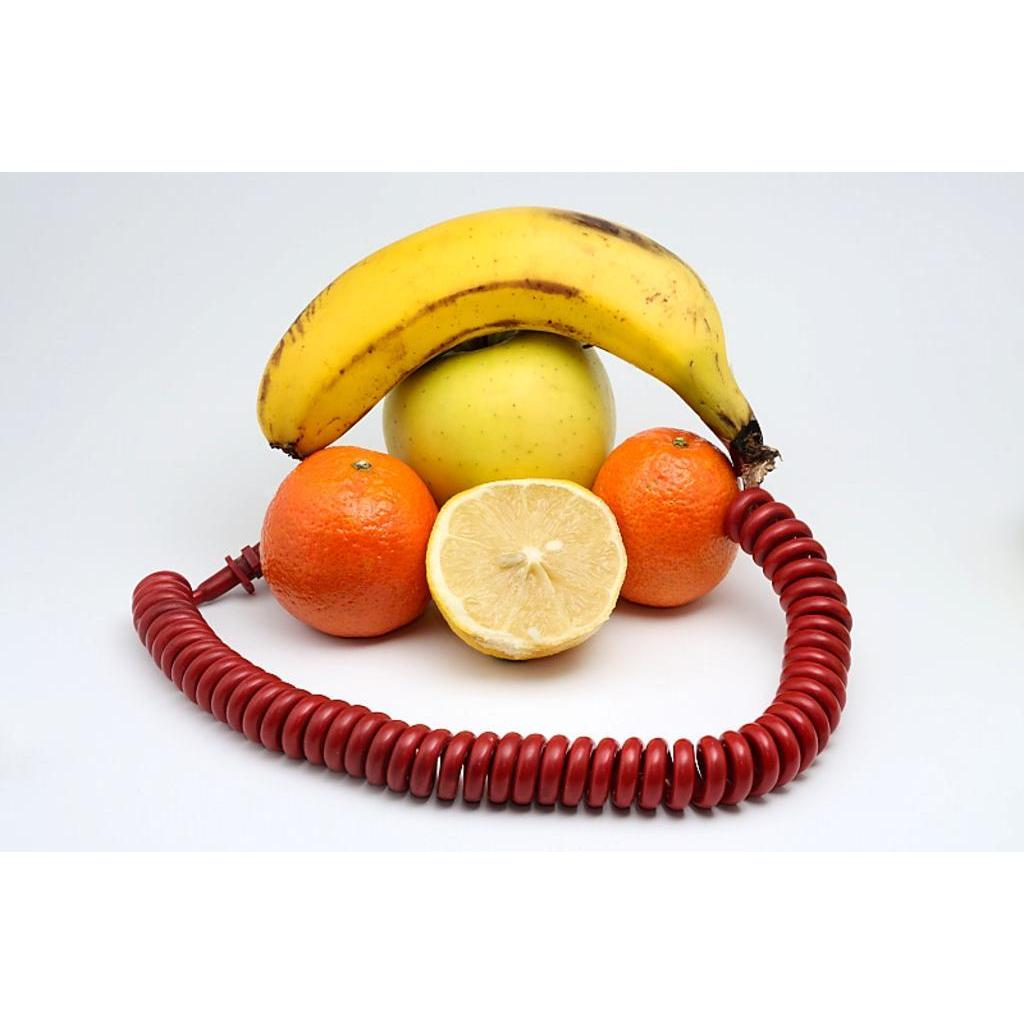banana: (258, 208, 774, 492)
